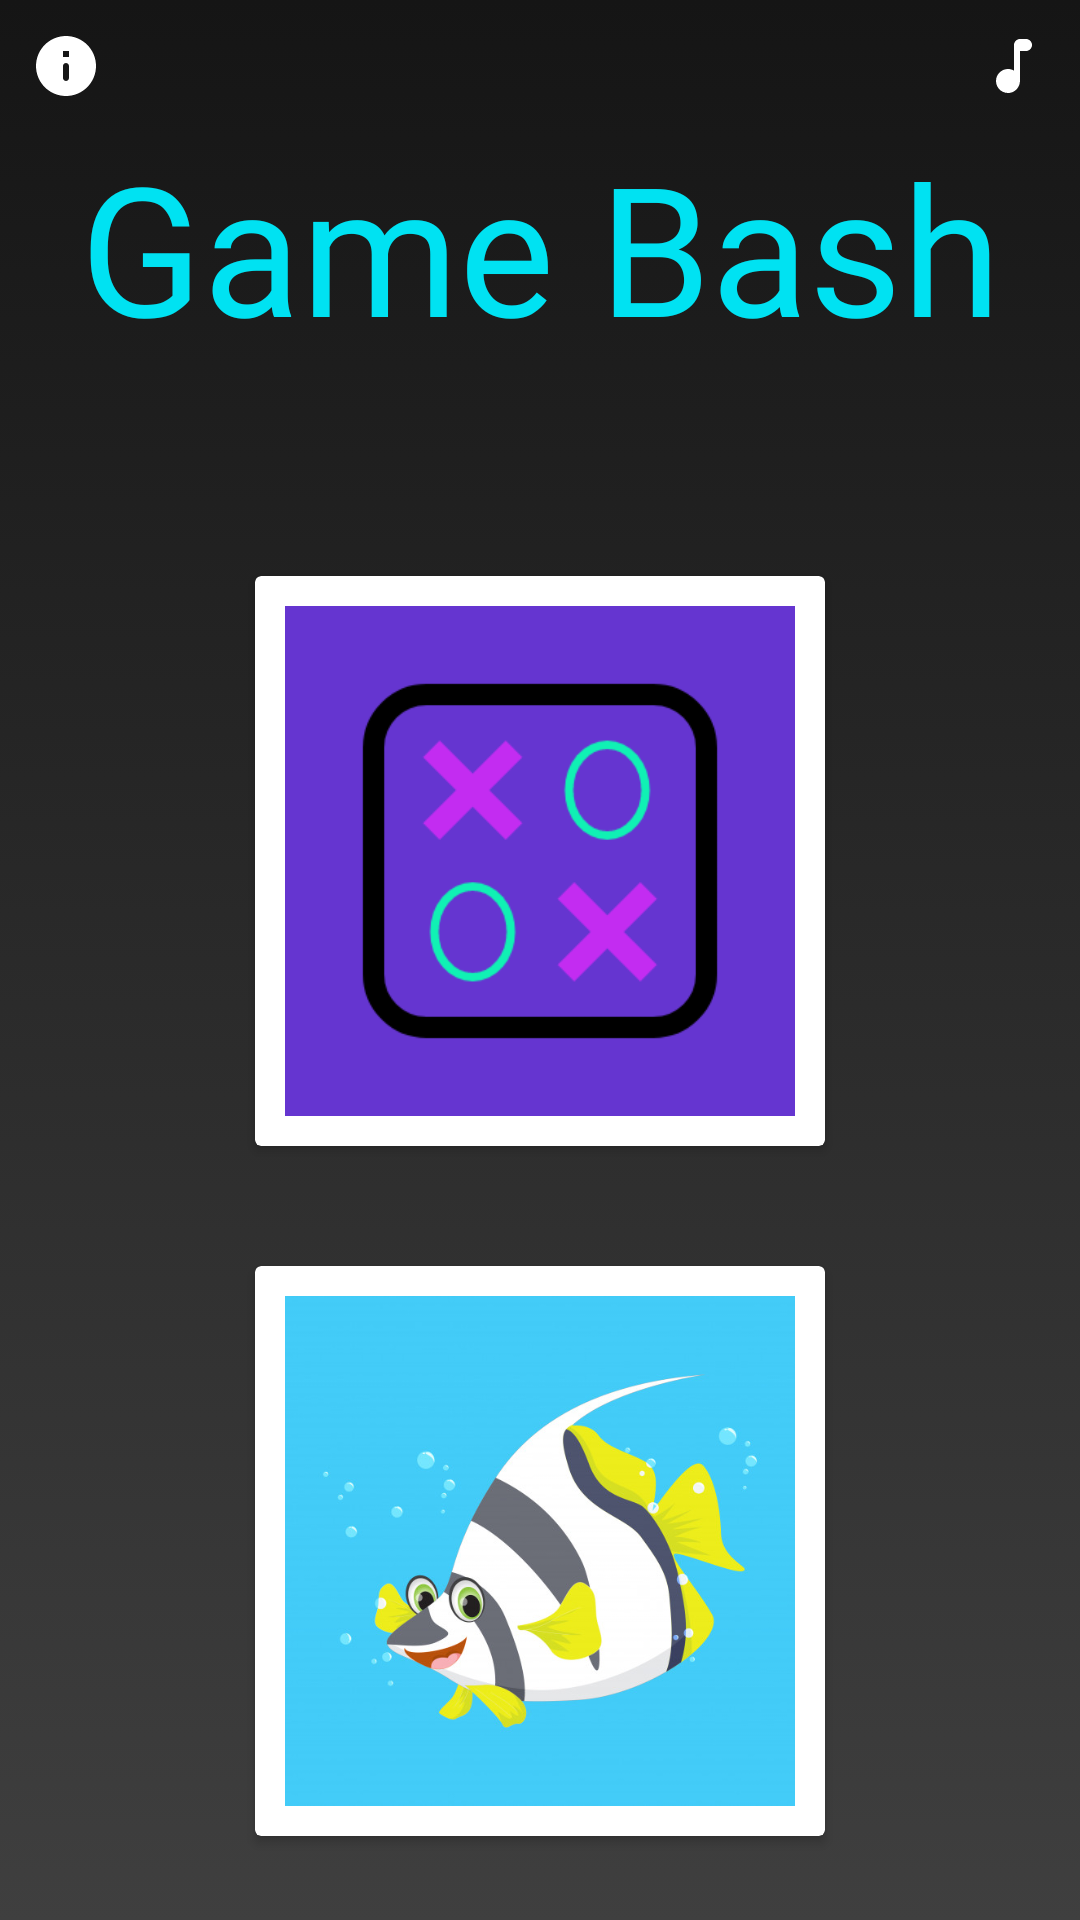

Icon click points for this 1080x1920 phone screenshot, format (x,y):
audiotrack: (1014,66)
info: (66,66)
